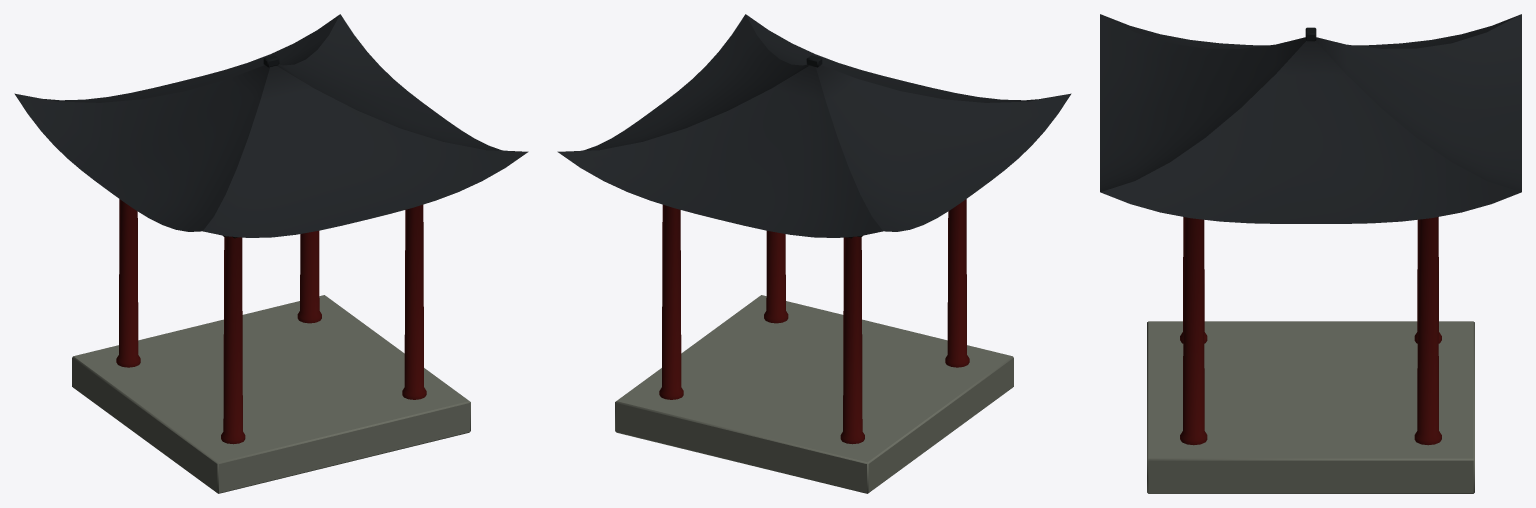
Rendered from hz-bell-pavilion.glb.
3 views of the same model, side by side, from view 1: azimuth 30°, elevation 25°; view 2: azimuth 150°, elevation 25°; view 3: azimuth 270°, elevation 25° (orthographic). The views are drawn at different scales.
Visible parts, largest first — view 1: roof__tile, base__stone, columns__lacquer; view 2: roof__tile, base__stone, columns__lacquer; view 3: roof__tile, base__stone, columns__lacquer.
Boxes of the visible parts, x1=… form: roof__tile: x1=14, y1=14, x2=528, y2=237; base__stone: x1=72, y1=295, x2=470, y2=493; columns__lacquer: x1=116, y1=199, x2=426, y2=444; roof__tile: x1=557, y1=14, x2=1071, y2=237; base__stone: x1=615, y1=295, x2=1013, y2=493; columns__lacquer: x1=659, y1=199, x2=969, y2=444; roof__tile: x1=1100, y1=14, x2=1521, y2=223; base__stone: x1=1147, y1=321, x2=1474, y2=493; columns__lacquer: x1=1180, y1=217, x2=1441, y2=445.
Size of the model in its own units: 5.4 by 5.58 by 5.4.
